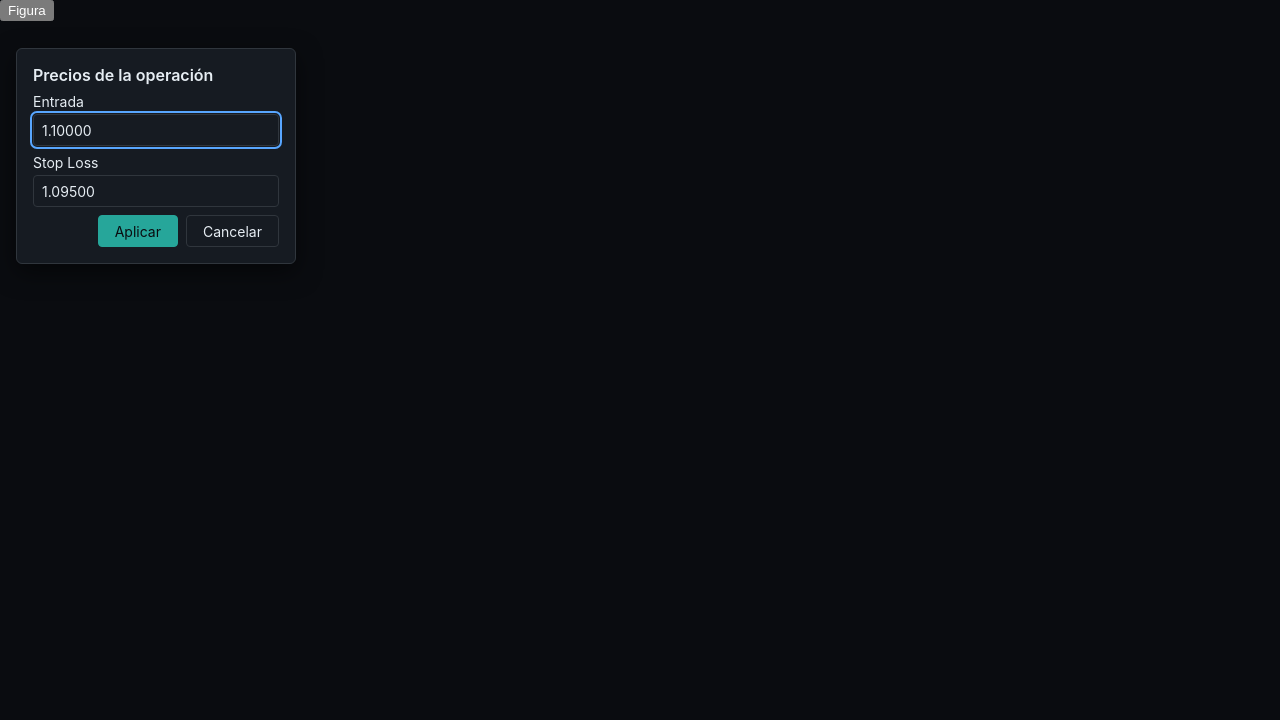
Test: OperationNumericFields (CMP-025, RF-410) › deshabilita Aplicar mientras haya un valor no numérico
The width and height of the screenshot is (1280, 720).
Clear the field labelled "Stop Loss": (156, 191) [33, 175, 279, 207]
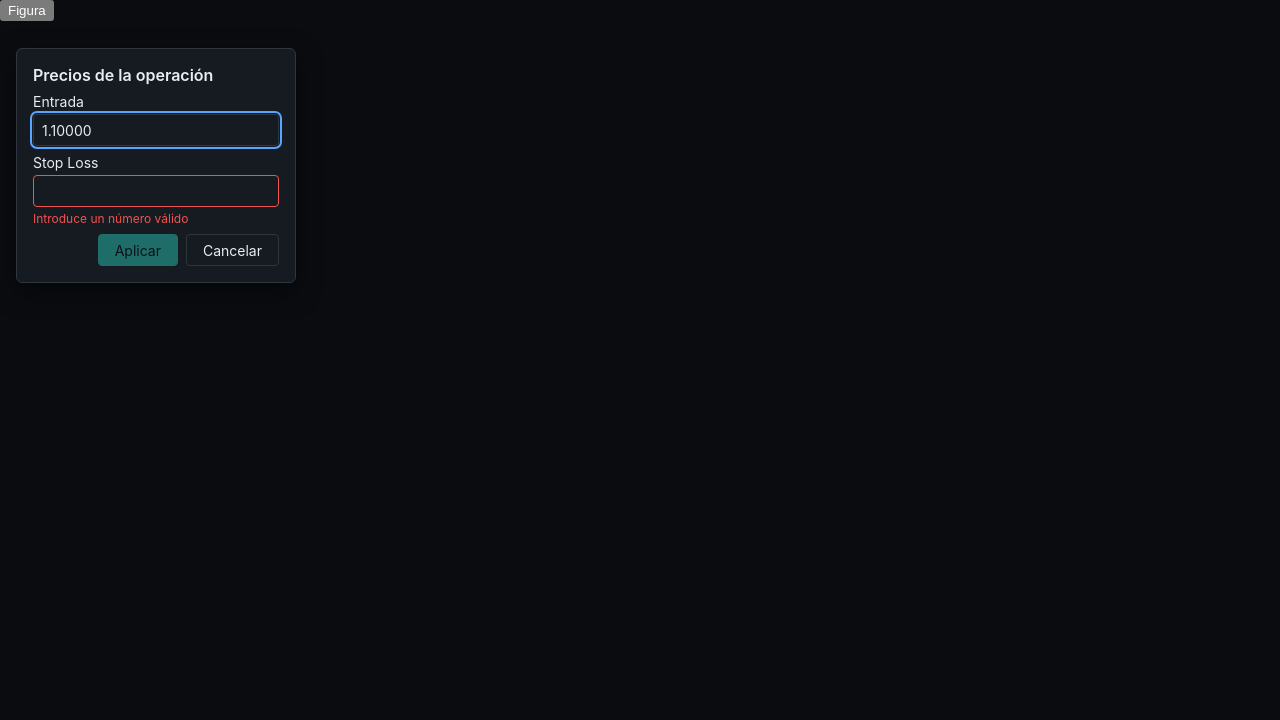
Result: the button "Aplicar" is disabled at [98, 234, 178, 266]
